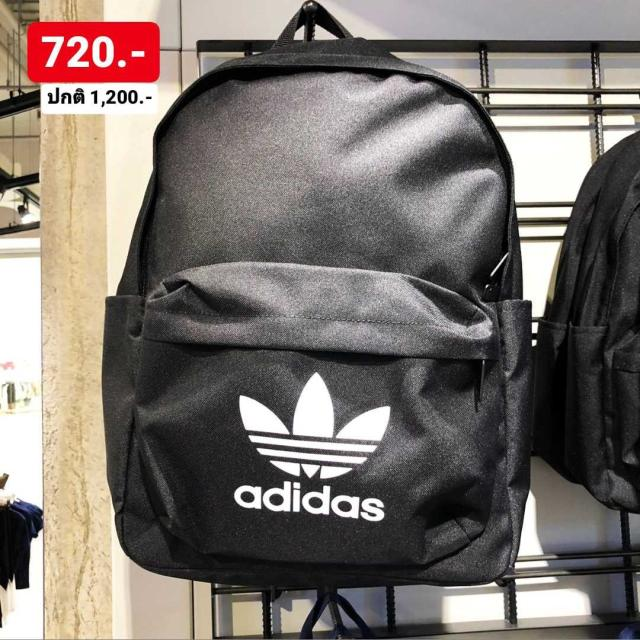handbag: (105, 0, 545, 614)
